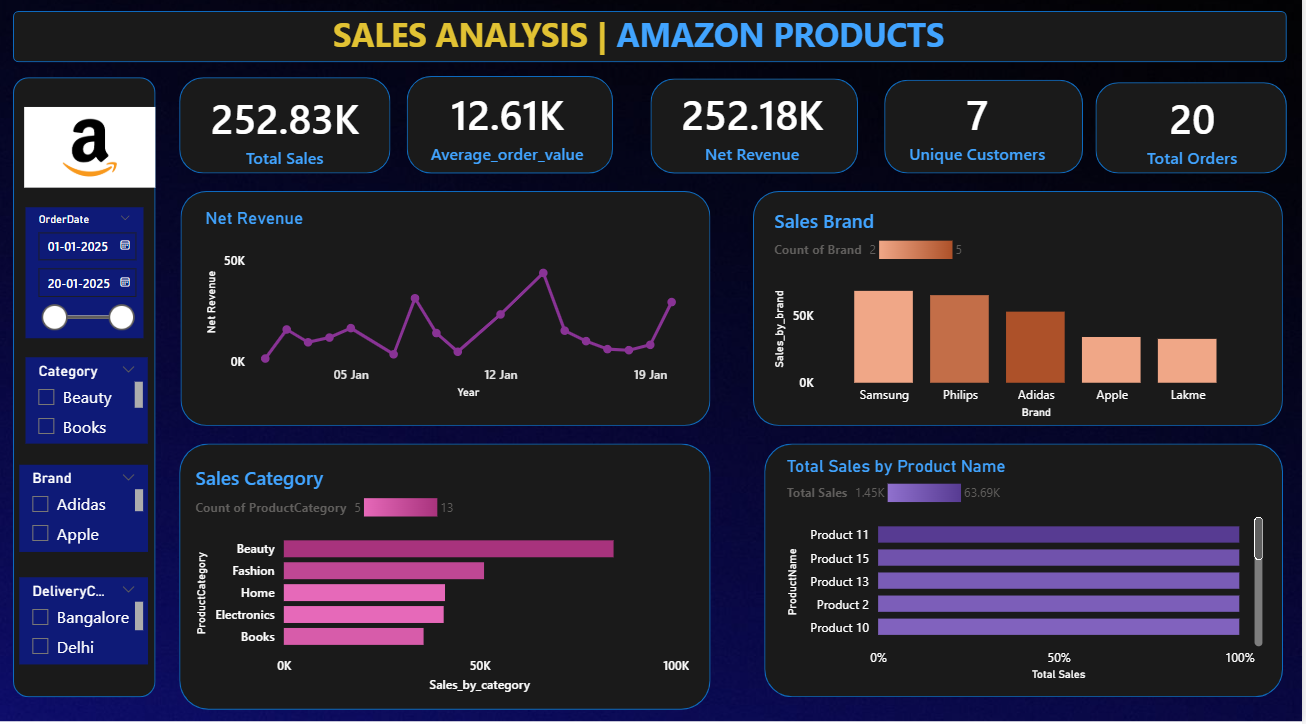

Layout of this report page (visuals, bound fields, positions):
{"tool":"powerbi","page":{"name":"Page 1","canvas":[1280,720],"ordinal":0},"visuals":[{"type":"shape","box":[14.7,19.6,1250.3,50.3],"z":0},{"type":"textbox","box":[323.9,16,625.8,54],"z":1000},{"type":"shape","box":[14.7,84.7,139.9,608.6],"z":2000},{"type":"shape","box":[177.9,84.7,207.4,94.5],"z":3000},{"type":"shape","box":[1077.3,89.6,187.7,89.6],"z":4000},{"type":"shape","box":[869.9,87.1,195.1,92],"z":5000},{"type":"shape","box":[640.5,85.9,203.7,93.3],"z":6000},{"type":"shape","box":[401.2,83.4,202.5,95.7],"z":7000},{"type":"card","fields":{"Values":["amazon_order_items.Total Sales"]},"box":[177.9,69.9,207.4,130.1],"z":8000},{"type":"card","fields":{"Values":["amazon_order_items.Average_order_value"]},"box":[396.3,66.3,207.4,130.1],"z":9000},{"type":"card","fields":{"Values":["amazon_order_items.Total Orders"]},"box":[1068.7,69.9,207.4,130.1],"z":10000},{"type":"card","fields":{"Values":["amazon_order_items.Net Revenue"]},"box":[636.8,66.3,207.4,130.1],"z":11000},{"type":"card","fields":{"Values":["amazon_order_items.Unique Customers"]},"box":[857.7,66.3,207.4,130.1],"z":12000},{"type":"shape","box":[179.1,196.3,520.2,230.7],"z":13000},{"type":"lineChart","title":"Net Revenue ","fields":{"Y":["amazon_order_items.Net Revenue"],"Category":["amazon_orders.OrderDate.Variation.Date Hierarchy.Year","amazon_orders.OrderDate.Variation.Date Hierarchy.Quarter","amazon_orders.OrderDate.Variation.Date Hierarchy.Month","amazon_orders.OrderDate.Variation.Date Hierarchy.Day"]},"box":[198.8,212.3,484.7,192.6],"z":14000},{"type":"shape","box":[741.1,196.3,520.2,230.7],"z":15000},{"type":"columnChart","title":"Sales Brand","fields":{"Category":["amazon_products.Brand"],"Y":["amazon_order_items.Sales_by_brand"]},"box":[757.1,212.3,476.1,212.3],"z":16000},{"type":"shape","box":[177.9,444.2,521.5,261.4],"z":17000},{"type":"shape","box":[752.2,444.2,509.2,249.1],"z":18000},{"type":"clusteredBarChart","title":"Sales Category ","fields":{"Category":["amazon_order_items.ProductCategory"],"Y":["amazon_order_items.Sales_by_category"]},"box":[189,465,494.5,228.2],"z":19000},{"type":"hundredPercentStackedBarChart","title":"Total Sales by Product Name","fields":{"Y":["amazon_order_items.Total Sales"],"Category":["amazon_products.ProductName"]},"box":[769.3,456.4,477.3,225.8],"z":20000},{"type":"slicer","fields":{"Values":["amazon_orders.OrderDate"]},"box":[27,212.3,115.3,127.6],"z":21000},{"type":"slicer","fields":{"Values":["amazon_products.Category"]},"box":[27,359.5,120.2,84.7],"z":22000},{"type":"slicer","fields":{"Values":["amazon_products.Brand"]},"box":[20.9,465,126.4,85.9],"z":23000},{"type":"slicer","fields":{"Values":["amazon_orders.DeliveryCity"]},"box":[20.9,575.5,126.4,85.9],"z":24000},{"type":"image","box":[20.9,83.4,138.7,139.9],"z":25000}]}

Visuals, with their boxes in screenshot pixels (x1, y1, x2, y2), scaled from the page's 1280x720 canvas onto the 1306x724 screenshot:
shape: [15, 20, 1291, 70]
textbox: [330, 16, 969, 70]
shape: [15, 85, 158, 697]
shape: [182, 85, 393, 180]
shape: [1099, 90, 1291, 180]
shape: [888, 88, 1087, 180]
shape: [654, 86, 861, 180]
shape: [409, 84, 616, 180]
card - amazon_order_items.Total Sales: [182, 70, 393, 201]
card - amazon_order_items.Average_order_value: [404, 67, 616, 197]
card - amazon_order_items.Total Orders: [1090, 70, 1302, 201]
card - amazon_order_items.Net Revenue: [650, 67, 861, 197]
card - amazon_order_items.Unique Customers: [875, 67, 1087, 197]
shape: [183, 197, 714, 429]
"Net Revenue " lineChart: [203, 213, 697, 407]
shape: [756, 197, 1287, 429]
"Sales Brand" columnChart: [772, 213, 1258, 427]
shape: [182, 447, 714, 710]
shape: [767, 447, 1287, 697]
"Sales Category " clusteredBarChart: [193, 468, 697, 697]
"Total Sales by Product Name" hundredPercentStackedBarChart: [785, 459, 1272, 686]
slicer - amazon_orders.OrderDate: [28, 213, 145, 342]
slicer - amazon_products.Category: [28, 361, 150, 447]
slicer - amazon_products.Brand: [21, 468, 150, 554]
slicer - amazon_orders.DeliveryCity: [21, 579, 150, 665]
image: [21, 84, 163, 225]
